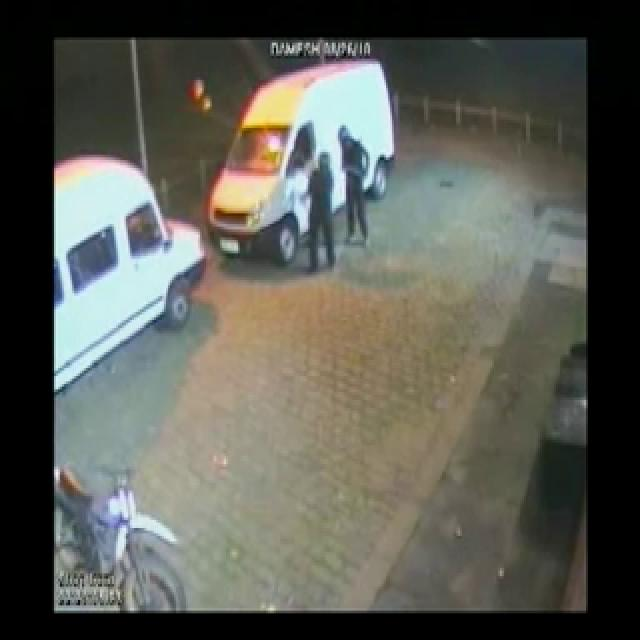arson: (160, 12, 478, 476)
